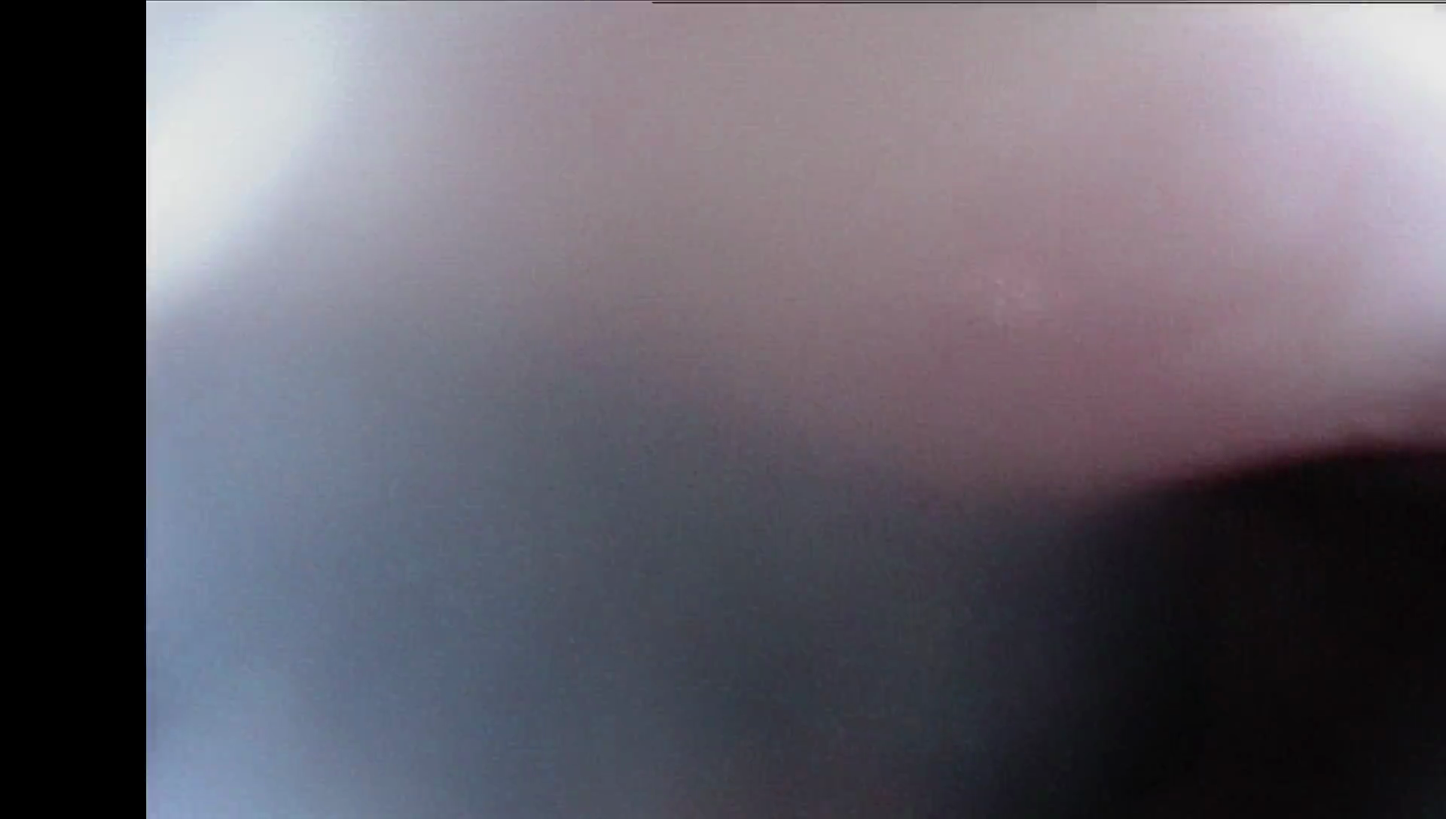close_wall: (155, 0, 1446, 449)
next: (935, 394, 1446, 819)
